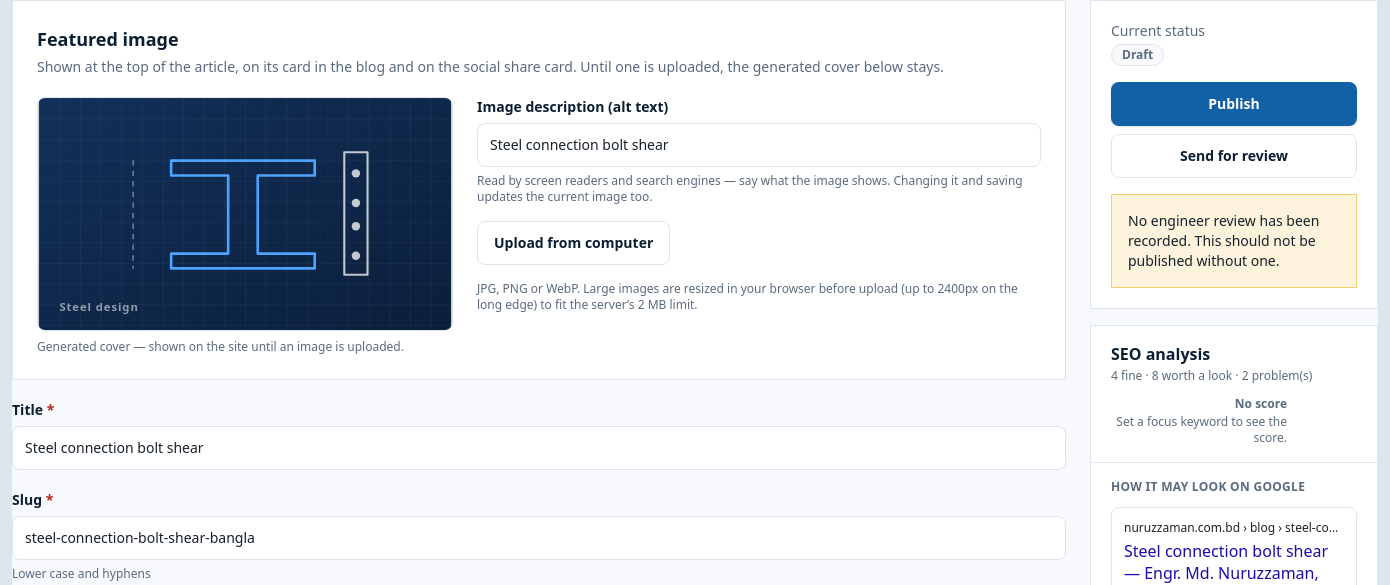
Scenario: PostEditor publishing › saves a draft and publishes it from one Publish button
The image size is (1390, 585).
Step 1. Click the button "Publish" → (1234, 104), box [1111,82,1357,126]
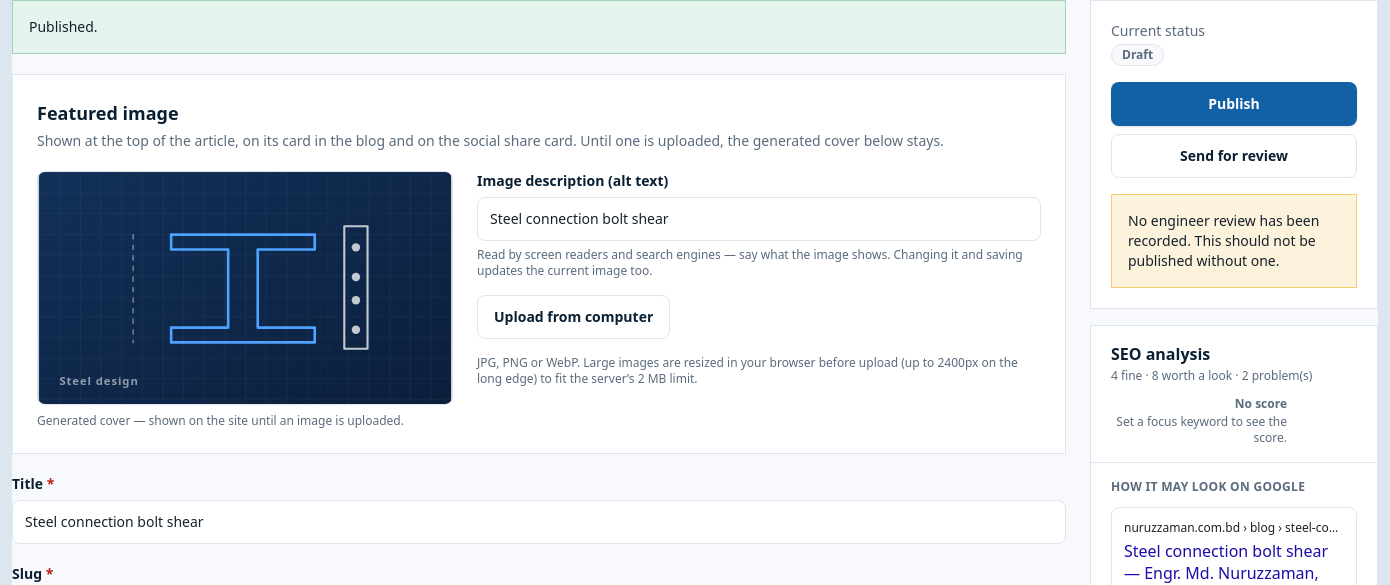
Check: the text "Published." is shown, box [29,17,98,36]
